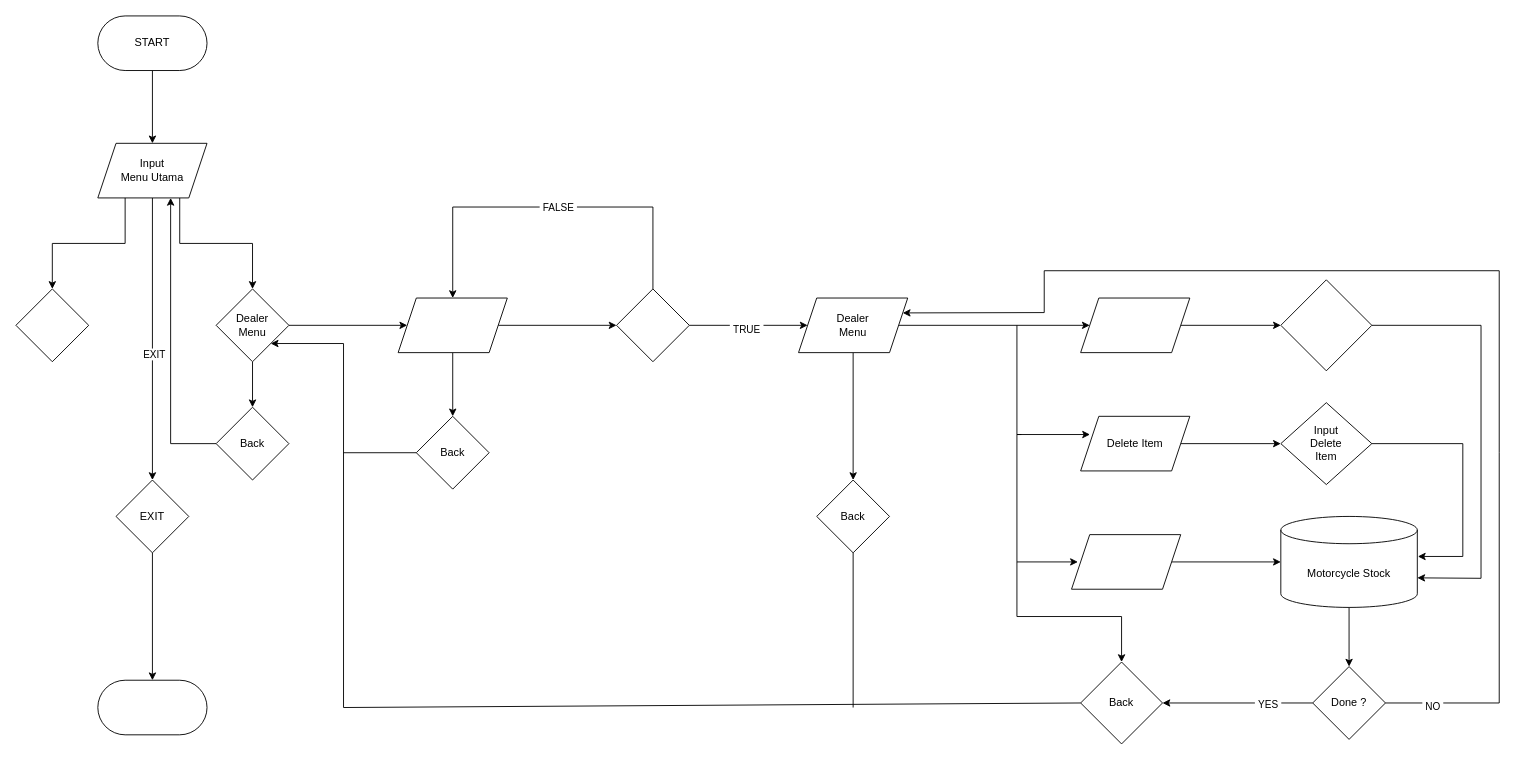
The diagram is 1522 pixels wide and 760 high, and some of its shapes have lost their labels. The shapes that lost their labels are listed below. From the top down, each one's box as (x1, y1, x2, y2) in pixels, then its label:
(397, 297, 507, 353): Input Password
(616, 288, 689, 362): Password bci23
(1080, 297, 1190, 353): Adding Item
(1280, 279, 1372, 371): Input Adding Item
(1071, 534, 1181, 589): Check Stock
(97, 679, 207, 735): END
